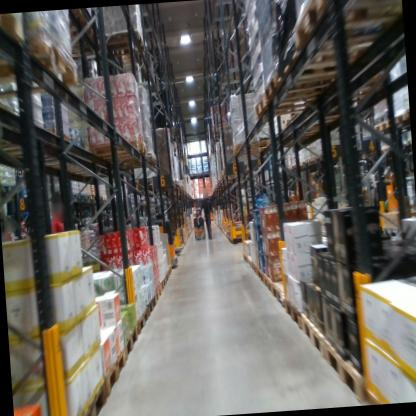pallet: (253, 64, 372, 130), (289, 0, 404, 47), (0, 36, 88, 94), (276, 36, 364, 88), (365, 157, 408, 239), (324, 337, 366, 407), (88, 130, 149, 164), (299, 310, 330, 363), (62, 27, 107, 59), (70, 381, 108, 416), (102, 26, 147, 55), (103, 349, 128, 401), (113, 150, 161, 177), (0, 14, 34, 46), (229, 136, 276, 158), (269, 276, 295, 313), (282, 294, 303, 333), (122, 323, 141, 363), (220, 166, 255, 180), (135, 305, 150, 337), (372, 118, 394, 136), (389, 109, 406, 127), (152, 283, 163, 308), (257, 265, 270, 286), (146, 294, 157, 316), (265, 275, 275, 296), (304, 155, 316, 166), (251, 259, 258, 276), (160, 276, 167, 292), (71, 191, 81, 202), (164, 269, 170, 287), (242, 251, 251, 263), (167, 265, 173, 280), (405, 106, 410, 123), (79, 193, 88, 202), (316, 151, 325, 160), (248, 258, 254, 270), (92, 194, 100, 202), (86, 192, 93, 201), (98, 194, 104, 203), (103, 195, 109, 203), (204, 171, 210, 176), (198, 172, 204, 177), (193, 173, 198, 179), (188, 174, 193, 179)
pallet_truck: (142, 208, 180, 272), (189, 206, 210, 244)
